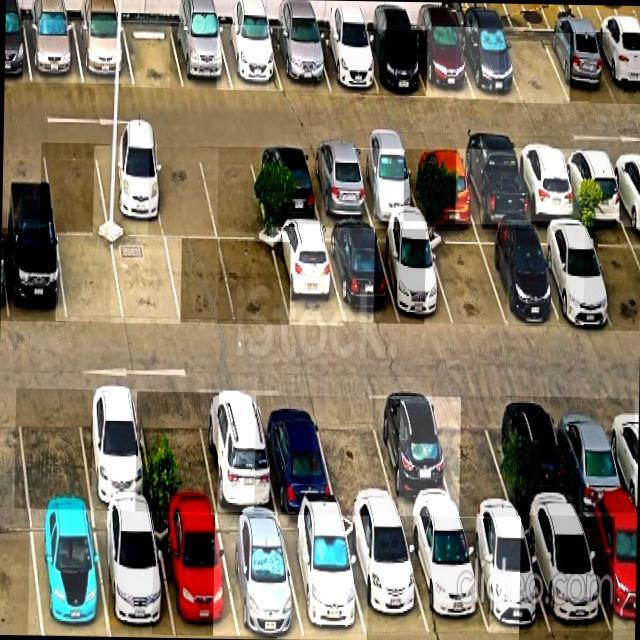empty: (432, 397, 515, 516), (314, 398, 398, 515), (137, 391, 217, 512), (17, 389, 91, 508), (427, 231, 506, 325), (199, 147, 268, 239), (165, 238, 236, 323), (150, 146, 216, 237), (112, 236, 180, 324), (42, 143, 108, 232), (219, 241, 289, 324), (585, 226, 640, 331), (57, 234, 123, 321), (499, 32, 569, 103), (123, 21, 184, 88)
occupied: (521, 516, 612, 640), (279, 516, 366, 640), (215, 515, 303, 637), (370, 397, 459, 516), (154, 513, 238, 636), (461, 517, 550, 633), (342, 516, 428, 635), (401, 517, 489, 633), (94, 511, 174, 634), (197, 391, 277, 512), (30, 511, 108, 635), (551, 398, 633, 515), (256, 395, 336, 512), (501, 396, 578, 516), (77, 388, 153, 509), (533, 227, 614, 324), (478, 231, 558, 324), (375, 228, 452, 324), (579, 513, 637, 635), (271, 227, 343, 325), (324, 228, 399, 322), (94, 145, 163, 236), (2, 228, 65, 321), (456, 149, 530, 225), (250, 148, 321, 223), (405, 149, 475, 222), (543, 31, 616, 101), (304, 148, 373, 222), (353, 148, 422, 221), (512, 148, 580, 221), (561, 148, 626, 220), (457, 28, 522, 99), (411, 27, 474, 97), (362, 30, 426, 96), (218, 25, 282, 90), (171, 22, 232, 89), (314, 30, 378, 93), (73, 20, 133, 84), (24, 19, 82, 83), (270, 29, 329, 90), (590, 34, 640, 103)
